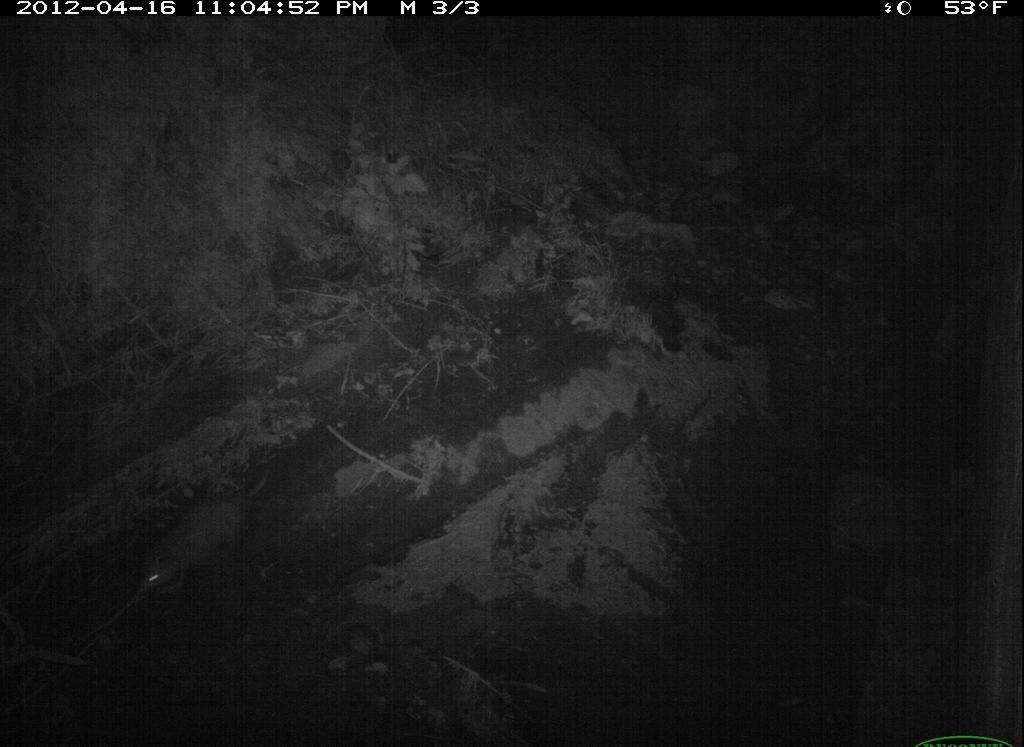opossum: (108, 451, 301, 620)
